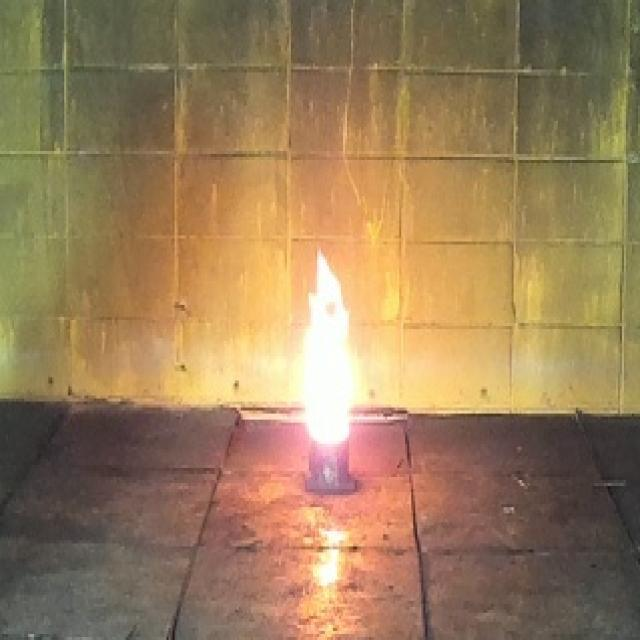Fire: (302, 246, 352, 447)
